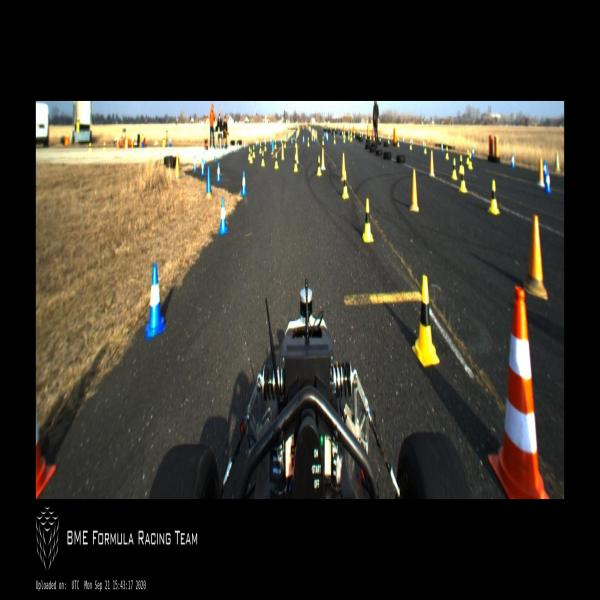blue_cone: (146, 264, 166, 342), (219, 197, 228, 234), (240, 170, 246, 195), (545, 171, 551, 192), (216, 162, 221, 182), (511, 154, 515, 167), (201, 158, 204, 174), (545, 166, 548, 181), (214, 149, 217, 162), (222, 144, 225, 157), (194, 155, 196, 170), (544, 161, 546, 176), (204, 151, 206, 165), (472, 146, 474, 158), (230, 143, 232, 154), (238, 140, 240, 150), (441, 142, 443, 152), (169, 136, 171, 145), (291, 136, 293, 144), (270, 138, 272, 146), (411, 138, 413, 145), (324, 131, 326, 137), (244, 140, 245, 148), (423, 139, 424, 147), (403, 135, 404, 143), (303, 136, 304, 142), (256, 140, 257, 146), (281, 138, 282, 144), (382, 134, 383, 140), (342, 130, 343, 136), (327, 134, 328, 140), (362, 132, 363, 137), (334, 132, 334, 136)
large_orange_cone: (488, 286, 550, 498)
yellow_cone: (412, 276, 439, 366), (362, 199, 374, 242), (488, 180, 500, 214), (459, 167, 467, 192), (342, 172, 349, 198), (451, 158, 458, 179), (459, 156, 464, 173), (468, 152, 472, 169), (274, 152, 278, 168), (261, 151, 265, 166), (318, 156, 321, 175), (294, 155, 297, 172), (445, 146, 449, 158), (467, 150, 470, 164), (424, 142, 427, 154), (252, 145, 255, 157), (76, 116, 80, 125), (259, 142, 262, 153), (264, 140, 267, 150), (397, 136, 400, 146), (103, 142, 106, 152), (250, 150, 252, 163), (248, 147, 250, 159), (141, 132, 144, 140), (308, 136, 310, 146), (163, 133, 165, 143), (89, 142, 91, 152), (322, 136, 324, 145), (410, 140, 412, 149), (284, 139, 286, 147), (295, 139, 297, 147), (334, 136, 336, 144), (348, 131, 350, 139), (344, 130, 346, 138), (350, 134, 352, 141), (373, 134, 375, 140), (365, 132, 367, 138), (275, 140, 276, 148), (388, 136, 389, 144), (379, 134, 380, 142), (354, 131, 355, 138), (351, 133, 352, 140), (370, 133, 371, 139), (344, 136, 345, 142), (360, 132, 361, 137)
